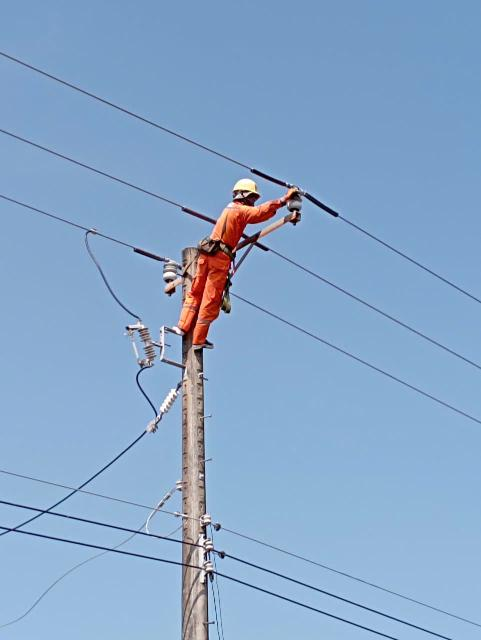gloves: (279, 186, 306, 207)
harness: (196, 234, 241, 264)
helmet: (231, 175, 262, 198)
shoes: (191, 336, 219, 353), (167, 320, 192, 336)
